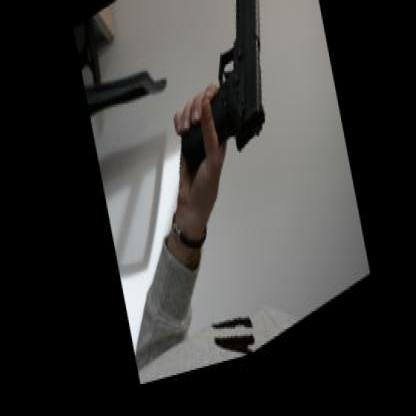pistol: (155, 0, 283, 199)
